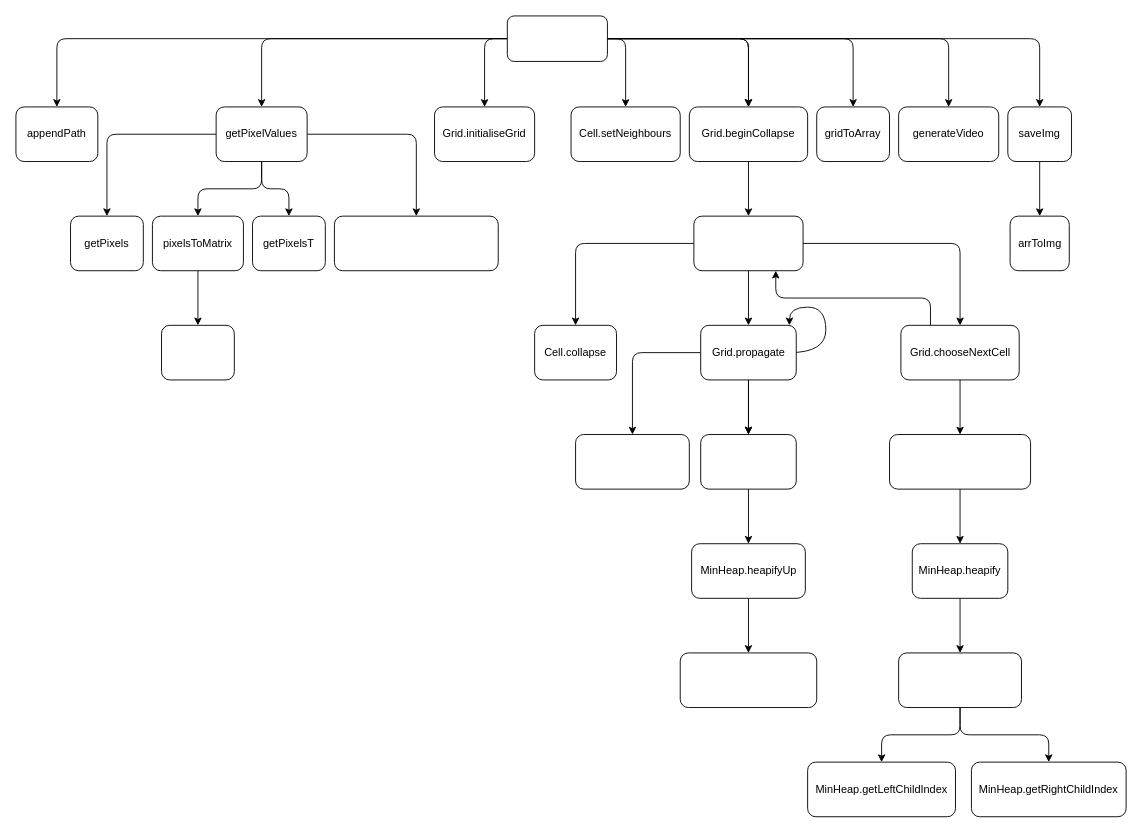
Image size: 1142x833. Some labels were removed from this diagram. The box of each missing label's shape, as (x1, y1, x2, y2) in pixels:
Grid.collapse: (693, 215, 803, 271)
Grid.getDirectionTile: (575, 434, 689, 489)
main: (506, 15, 607, 61)
MinHeap.getParentIndex: (679, 652, 817, 708)
MinHeap.heapifyDown: (898, 652, 1021, 708)
MinHeap.insert: (700, 434, 796, 489)
MinHeap.removeElement: (889, 434, 1031, 489)
rgbToHex: (161, 324, 234, 380)
Tile.generateAdjacencyRules: (334, 215, 498, 271)
